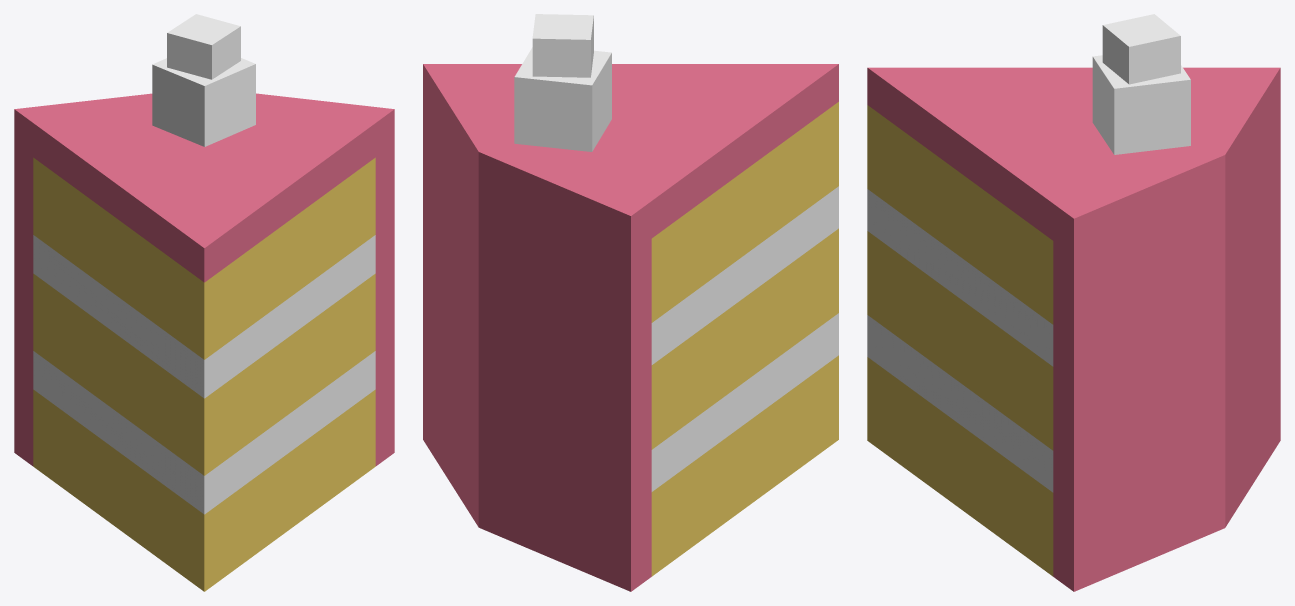
File: CandylandCake_06.fbx
3 renders of one model, left to right at view 1: azimuth 30°, elevation 25°; view 2: azimuth 150°, elevation 25°; view 3: azimuth 270°, elevation 25°, orthographic. The views are drawn at different scales.
Visible parts, largest first — view 1: CandylandCake_06; view 2: CandylandCake_06; view 3: CandylandCake_06.
Boxes of the visible parts, x1,y1,x2,y2 form: CandylandCake_06: (14, 14, 394, 591); CandylandCake_06: (423, 14, 838, 591); CandylandCake_06: (867, 14, 1280, 591).
Size of the model in its own units: 0.5801 by 0.8536 by 0.6699.
